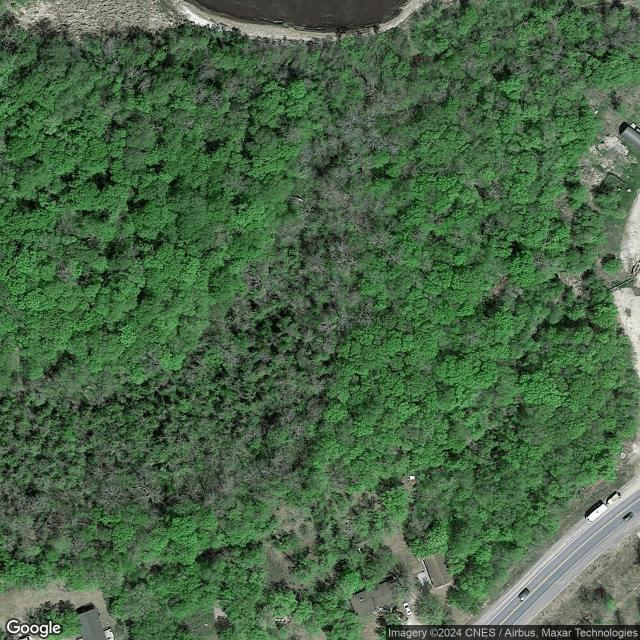Propane: (619, 125, 640, 150)
